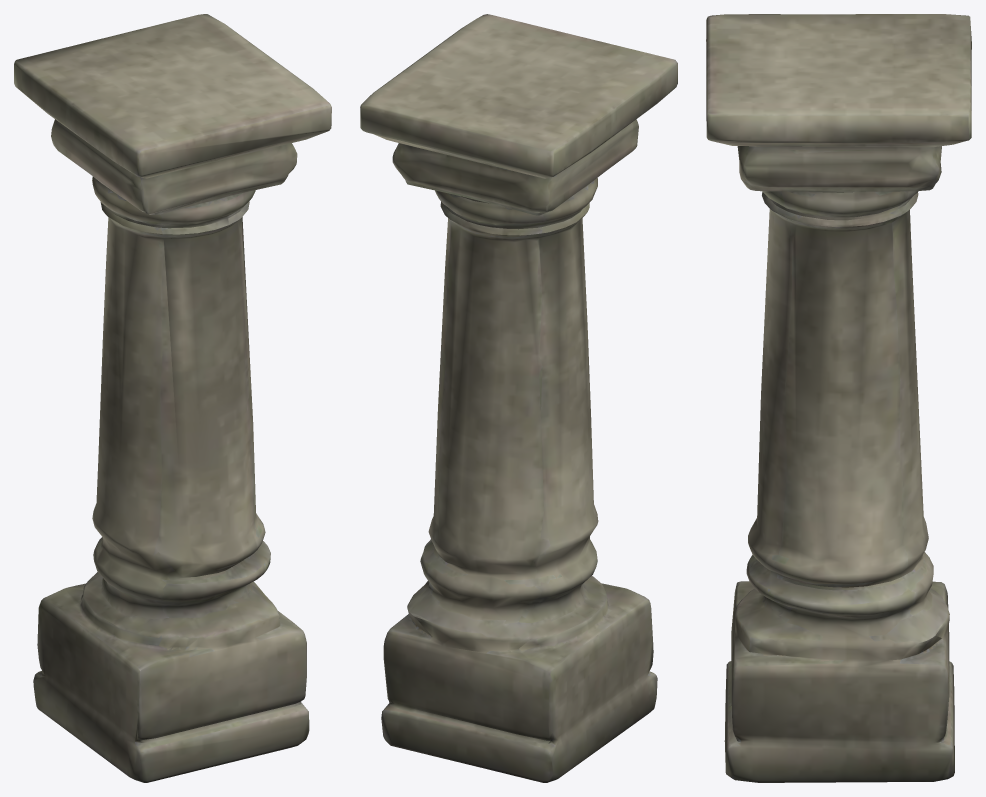
Rendered from worn-limestone-balustrade-v001.glb.
3 views of the same model, side by side, from view 1: azimuth 30°, elevation 25°; view 2: azimuth 150°, elevation 25°; view 3: azimuth 270°, elevation 25° (orthographic). The views are drawn at different scales.
Parts seen in each view (by area): view 1: worn-limestone-balustrade; view 2: worn-limestone-balustrade; view 3: worn-limestone-balustrade.
Boxes of the visible parts, bbox=[...] form: worn-limestone-balustrade: bbox=[14, 14, 331, 782]; worn-limestone-balustrade: bbox=[360, 14, 677, 782]; worn-limestone-balustrade: bbox=[706, 14, 971, 782].
Bounding box in the file's own units: 0.3501 × 1.08 × 0.3835.
Materials: 1 (1 with a texture image).
